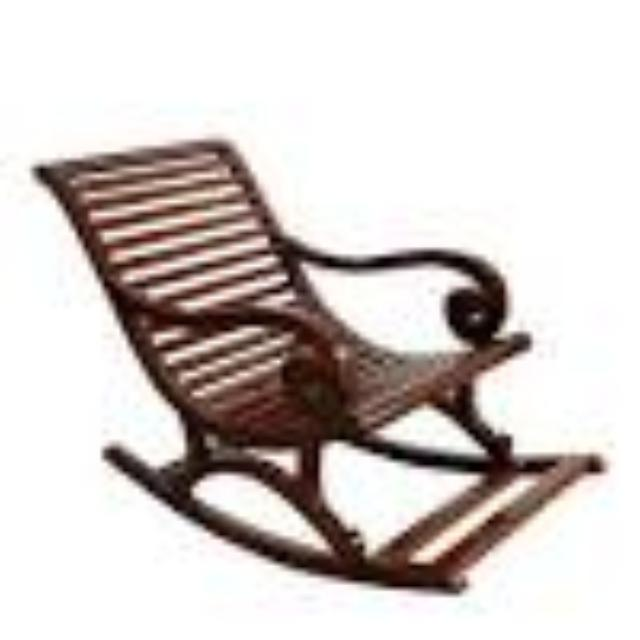obstacle: (26, 98, 636, 618)
